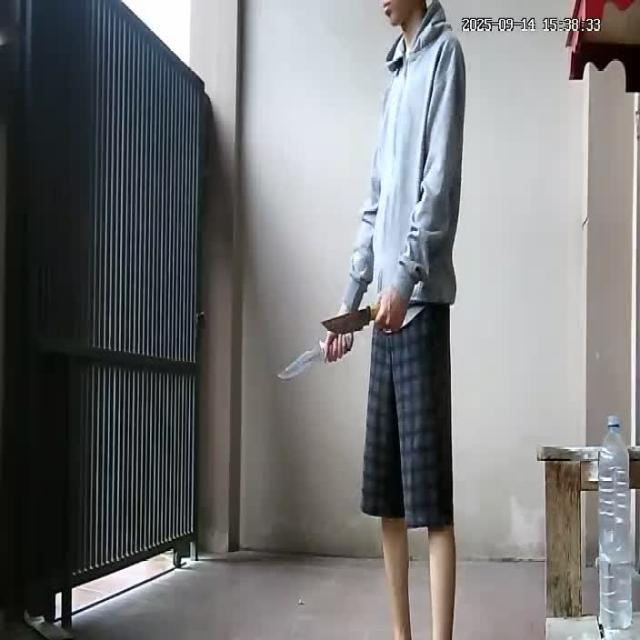senjata_tajam: (319, 302, 380, 339), (278, 339, 328, 382)
